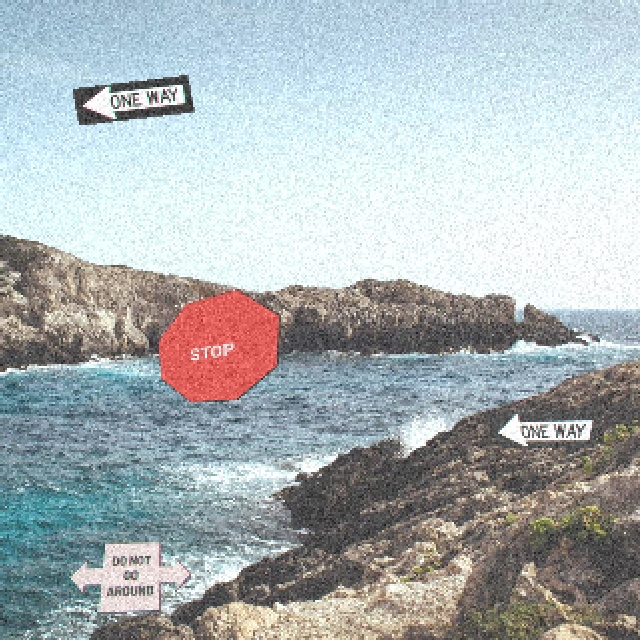DO_NOT_GO_AROUND: (67, 540, 190, 612)
ONE_WAY_ left: (70, 73, 193, 124), (480, 406, 603, 447)
STOP: (156, 287, 279, 401)
